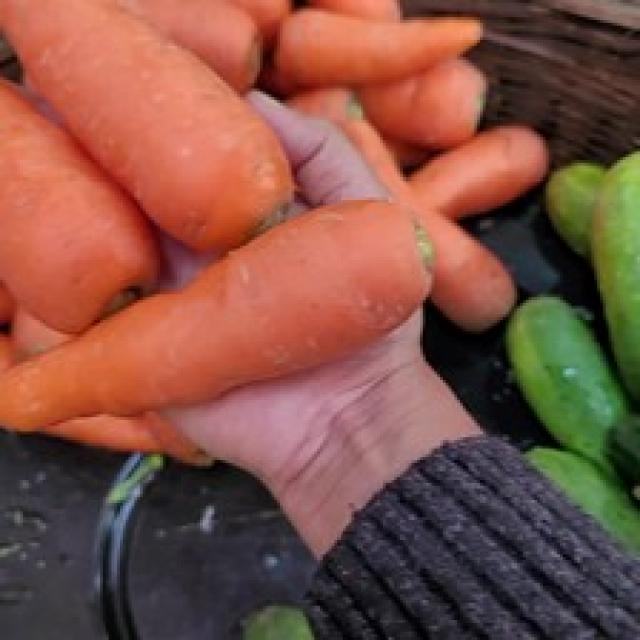Fresh_Carrot: (0, 0, 274, 223)
